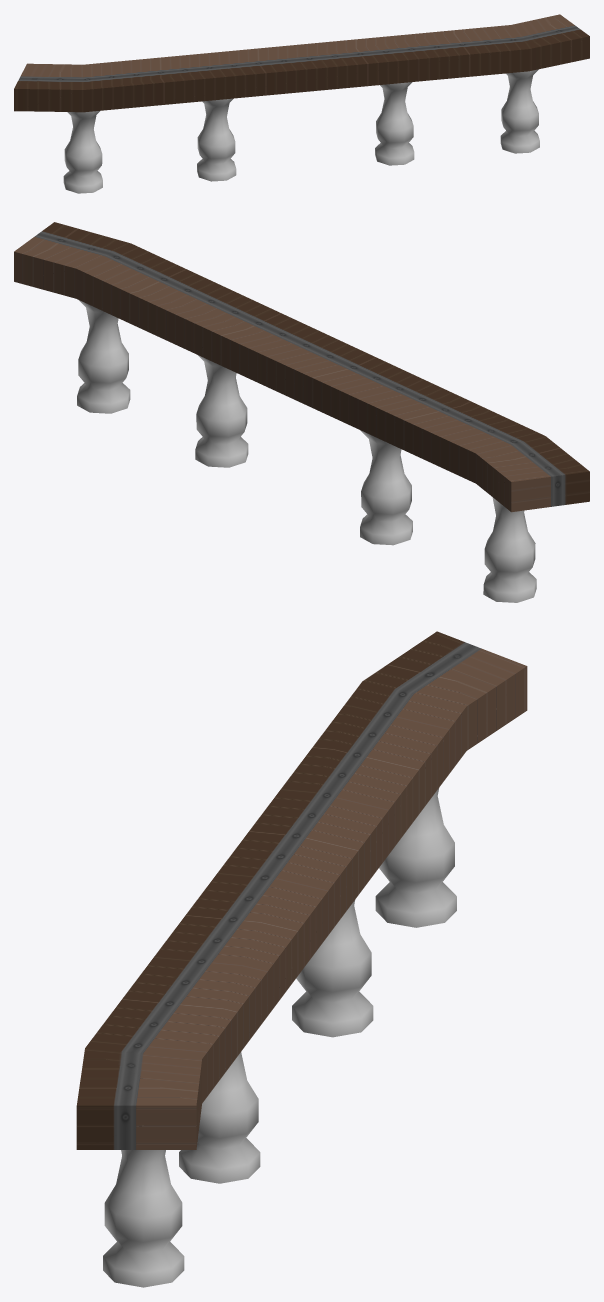
File: BentRail.fbx
The picture shows the model from 3 angles, top to bottom: view 1: azimuth 30°, elevation 25°; view 2: azimuth 150°, elevation 25°; view 3: azimuth 270°, elevation 25°; orthographic projection. The views are drawn at different scales.
Parts seen in each view (by area): view 1: BentRail; view 2: BentRail; view 3: BentRail.
Part boxes in pixels (bbox=[...]): BentRail: bbox=[14, 14, 589, 193]; BentRail: bbox=[14, 222, 589, 602]; BentRail: bbox=[76, 631, 527, 1287].
Size of the model in its own units: 457 by 97.29 by 183.
